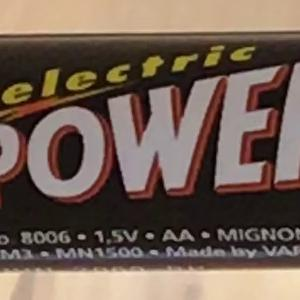1,5V: (85, 221, 147, 252)
